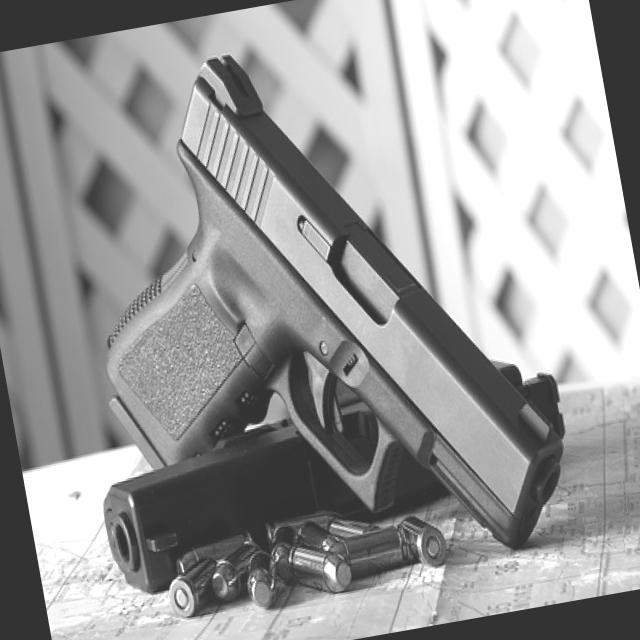handgun: (51, 8, 577, 616), (84, 347, 580, 596)
